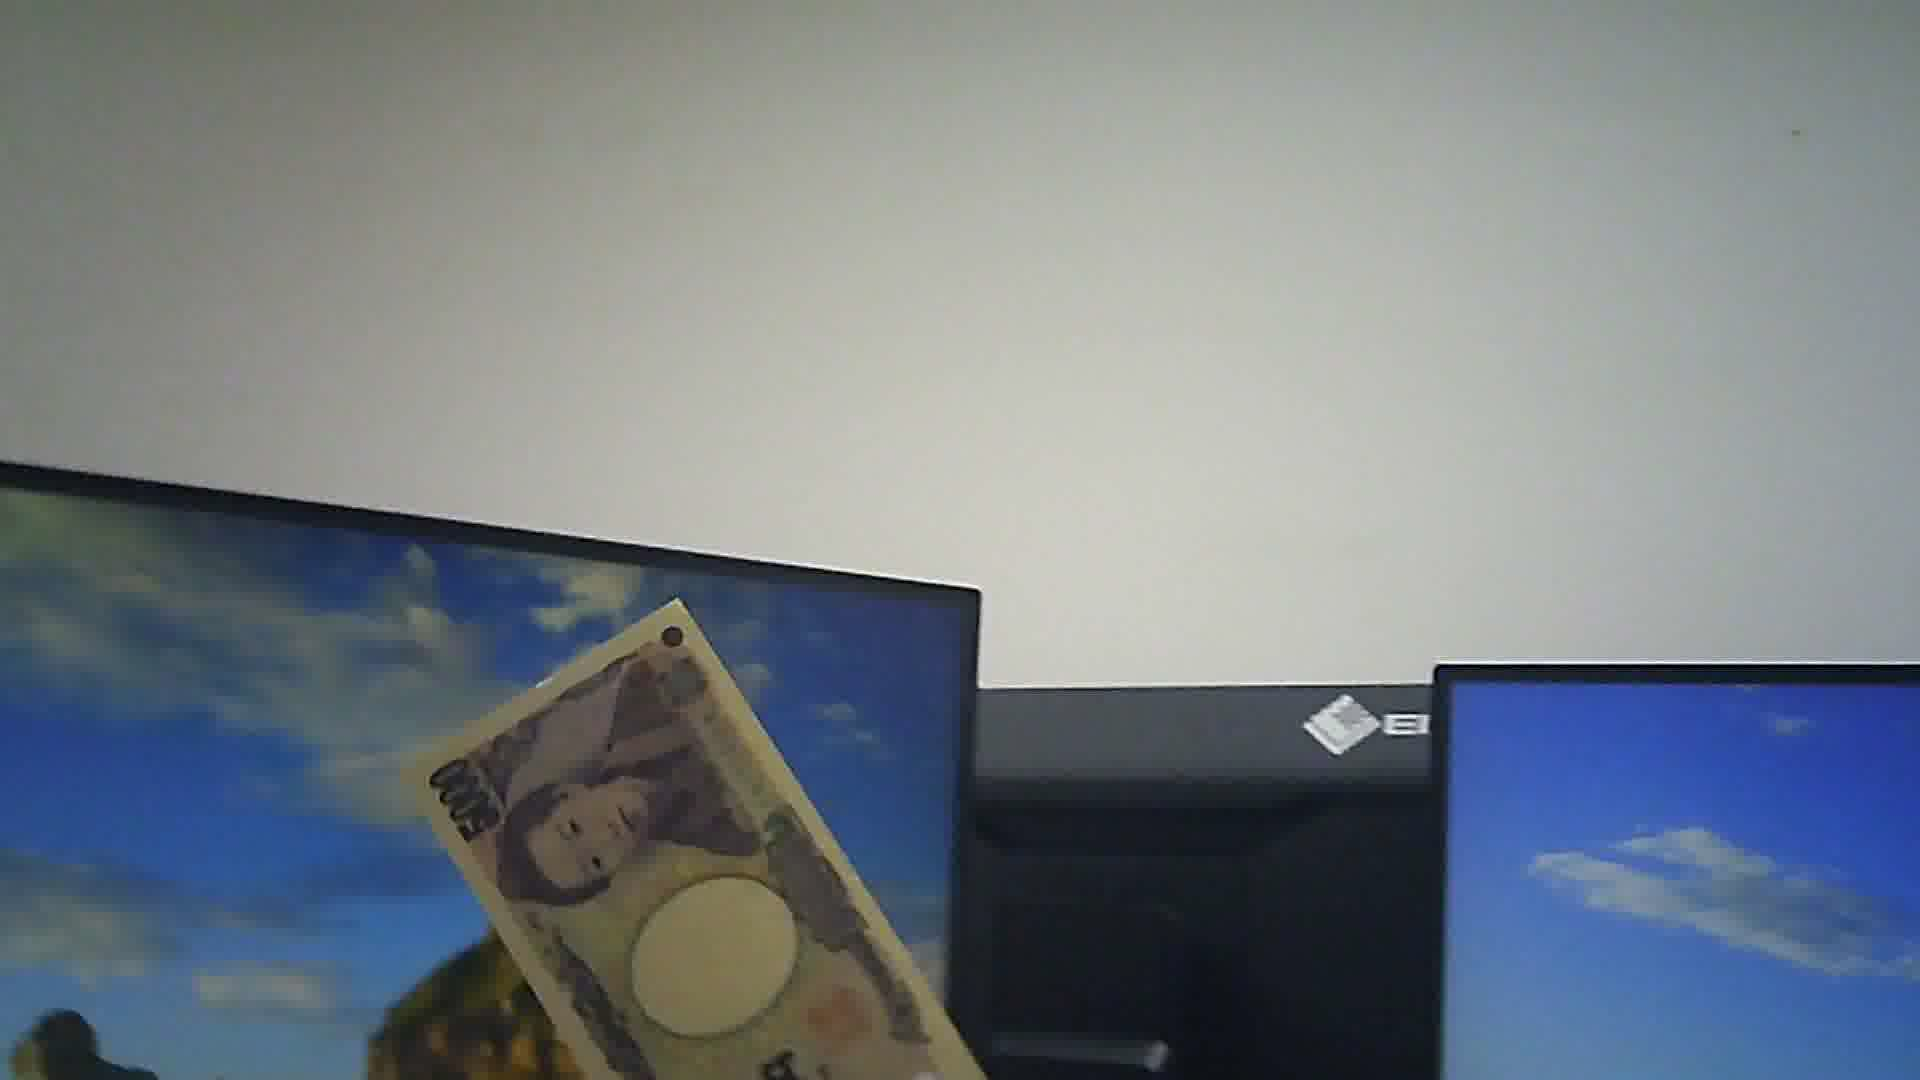5,000 Yen: (402, 585, 955, 1079)
